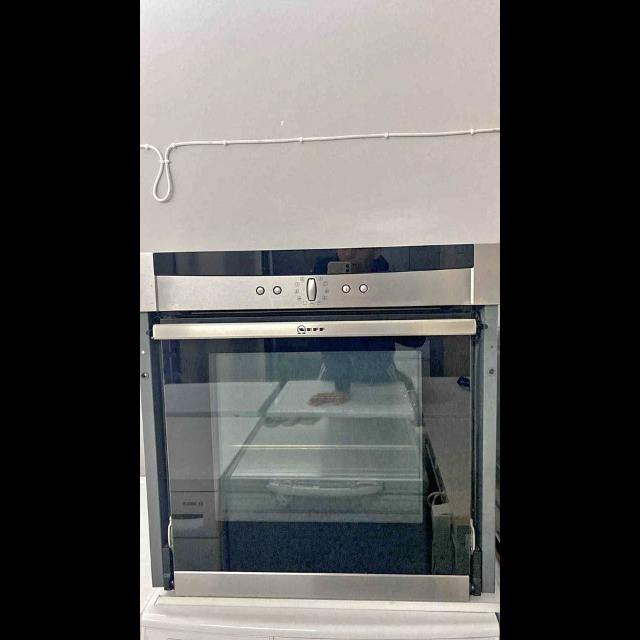Oven: (140, 238, 500, 640)
